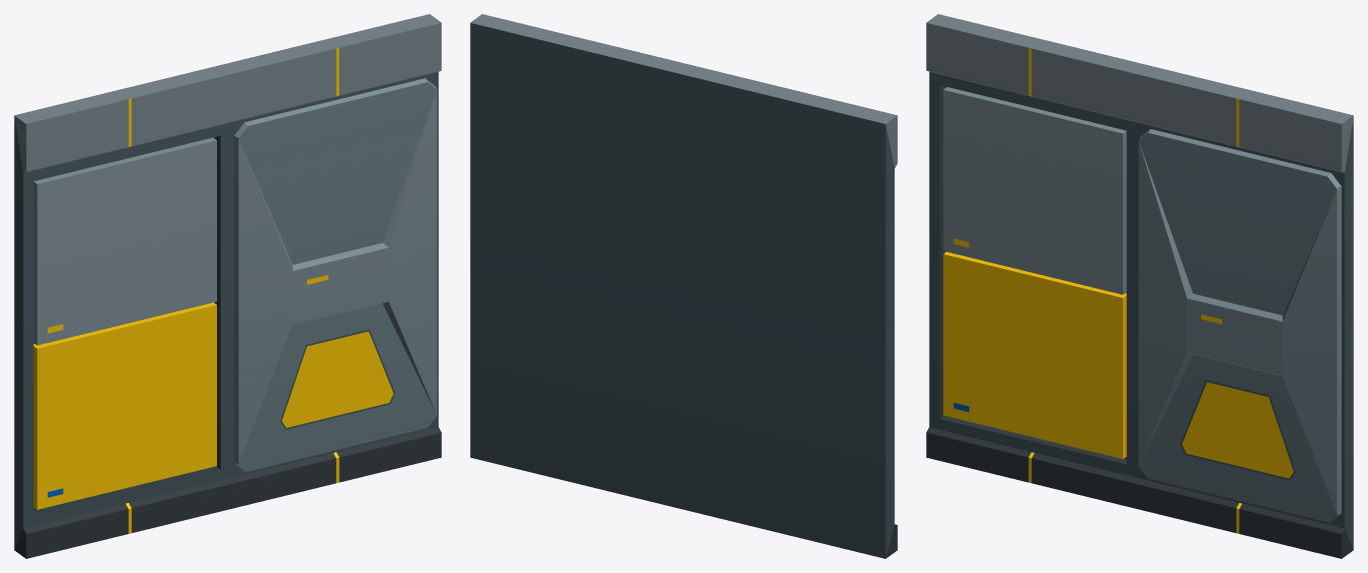
File: Wall_type_C_011.fbx
3 views of the same model, side by side, from view 1: azimuth 30°, elevation 25°; view 2: azimuth 150°, elevation 25°; view 3: azimuth 330°, elevation 25° (orthographic).
Parts seen in each view (by area): view 1: Wall_type_C_011; view 2: Wall_type_C_011; view 3: Wall_type_C_011.
Boxes of the visible parts, x1,y1,x2,y2 form: Wall_type_C_011: [14, 14, 441, 558]; Wall_type_C_011: [470, 14, 897, 558]; Wall_type_C_011: [926, 14, 1353, 558].
Size of the model in its own units: 400 by 25 by 400.
